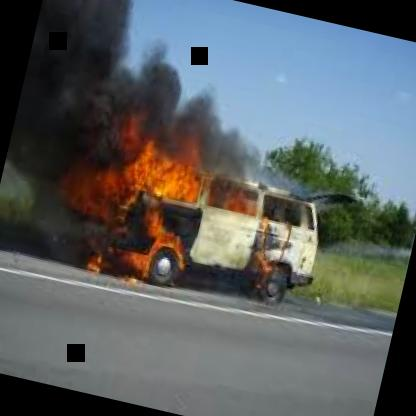fire: (70, 139, 316, 318)
